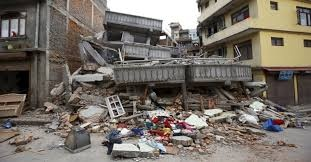rubble: (139, 99, 294, 143)
